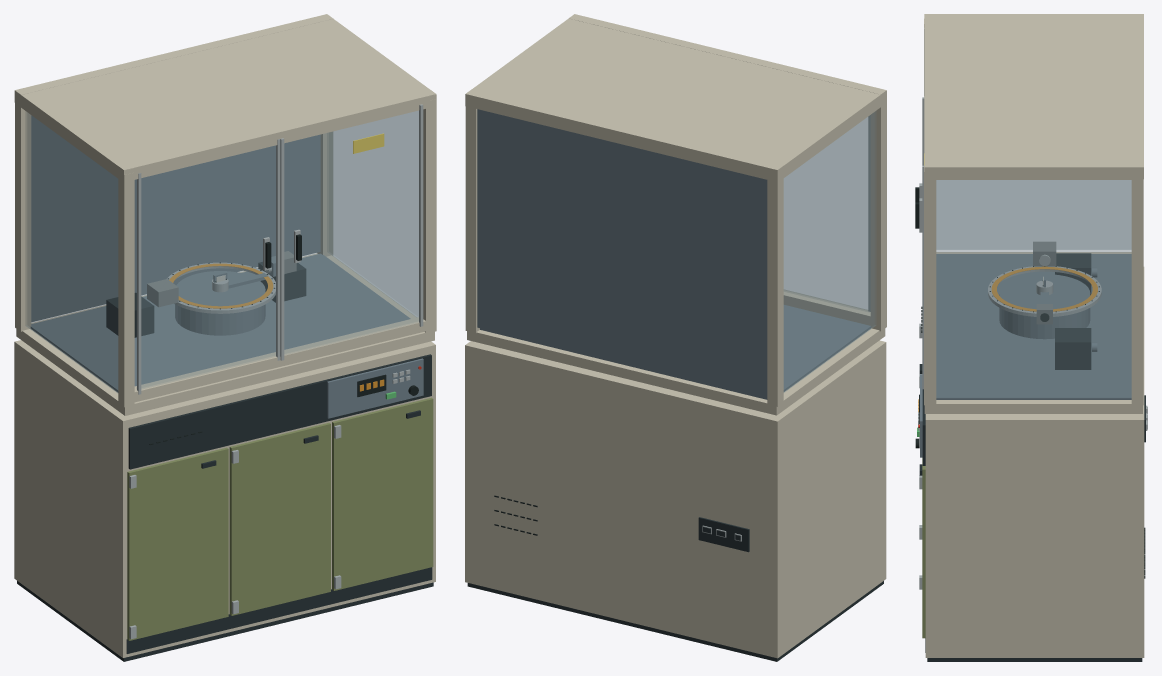
File: dmax-b.glb
3 views of the same model, side by side, from view 1: azimuth 30°, elevation 25°; view 2: azimuth 150°, elevation 25°; view 3: azimuth 270°, elevation 25° (orthographic).
Parts seen in each view (by area): view 1: Cabinet_lower_body, Rear_pane, Enclosure_roof, Door_glass_left, Door_glass_right, Side_pane_-608, Sage_access_panel_A, Sage_access_panel_B, Sage_access_panel_C, Goniometer_table_inset, Side_pane_608, Built_in_console (+22 smaller); view 2: Cabinet_lower_body, Rear_pane, Enclosure_roof, Side_pane_-608, Door_glass_left, Goniometer_table_deck, Rear_top_rail, Goniometer_table_inset, Cabinet_post_-608_-360, Cabinet_post_-608_360, Cabinet_post_608_-360, Front_top_rail (+4 smaller); view 3: Cabinet_lower_body, Side_pane_608, Enclosure_roof, Goniometer_table_inset, Side_pane_-608, Motor_housing, Goniometer_table_deck, Cabinet_post_608_360, Cabinet_post_608_-360, Side_frame_top_608, Rear_top_rail, Front_top_rail (+8 smaller).
Part boxes in pixels (<box>): Cabinet_lower_body: <box>14,340,435,657</box>; Rear_pane: <box>31,115,320,321</box>; Enclosure_roof: <box>15,19,429,173</box>; Door_glass_left: <box>141,145,275,388</box>; Door_glass_right: <box>284,111,418,354</box>; Side_pane_-608: <box>25,112,117,392</box>; Sage_access_panel_A: <box>127,447,228,640</box>; Sage_access_panel_B: <box>229,422,330,615</box>; Sage_access_panel_C: <box>332,397,433,590</box>; Goniometer_table_inset: <box>30,253,410,392</box>; Side_pane_608: <box>328,111,418,316</box>; Built_in_console: <box>128,354,431,469</box>; Cabinet_lower_body: <box>465,340,886,658</box>; Rear_pane: <box>477,109,767,397</box>; Enclosure_roof: <box>472,18,886,174</box>; Side_pane_-608: <box>784,111,875,392</box>; Door_glass_left: <box>784,117,868,310</box>; Goniometer_table_deck: <box>467,328,885,415</box>; Rear_top_rail: <box>465,89,783,182</box>; Goniometer_table_inset: <box>480,305,871,399</box>; Cabinet_post_-608_-360: <box>767,172,783,406</box>; Cabinet_post_-608_360: <box>870,95,886,331</box>; Cabinet_post_608_-360: <box>465,106,479,333</box>; Front_top_rail: <box>569,14,886,94</box>; Cabinet_lower_body: <box>925,267,1144,657</box>; Side_pane_608: <box>936,180,1131,397</box>; Enclosure_roof: <box>929,14,1140,172</box>; Goniometer_table_inset: <box>936,254,1131,399</box>; Side_pane_-608: <box>936,180,1131,249</box>; Motor_housing: <box>999,274,1090,339</box>; Goniometer_table_deck: <box>924,252,1142,413</box>; Cabinet_post_608_360: <box>924,167,936,405</box>; Cabinet_post_608_-360: <box>1131,172,1143,405</box>; Side_frame_top_608: <box>924,167,1143,179</box>; Rear_top_rail: <box>1131,14,1143,178</box>; Front_top_rail: <box>924,14,936,177</box>.
Size of the model in its own units: 1.26 by 1.9 by 0.8055.
